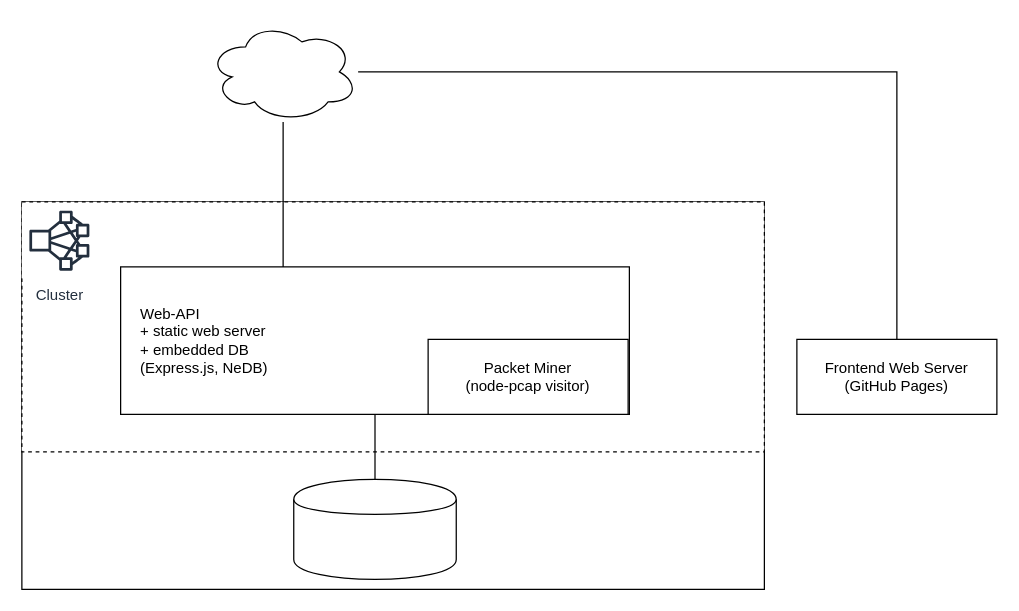
Image size: 1019x611. Some labels were removed from this diagram. The shapes that lost their labels are listed below. From the top down, each one's centre as x and y in pixels, then its label:
At (282,71): "TCP/IP".
At (374,528): "File Storage (Analysis Files)".
